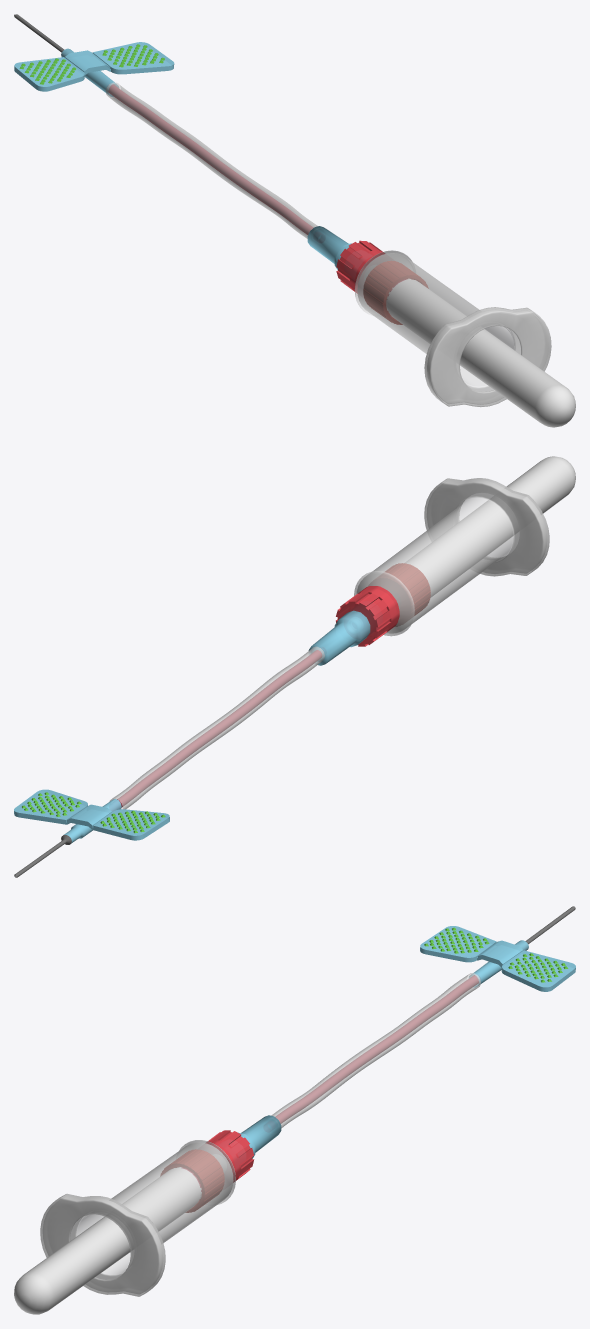
The model's file is Butterfly_Needle.fbx.
3 renders of one model, top to bottom at view 1: azimuth 30°, elevation 25°; view 2: azimuth 150°, elevation 25°; view 3: azimuth 330°, elevation 25°, orthographic.
Parts seen in each view (by area): view 1: Butterfly Needle, Collection Tube; view 2: Butterfly Needle, Collection Tube; view 3: Butterfly Needle, Collection Tube.
Part boxes in pixels (x1,y1,x2,y2): Butterfly Needle: (14,14,551,407); Collection Tube: (363,261,575,427); Butterfly Needle: (14,478,549,877); Collection Tube: (369,456,575,626); Butterfly Needle: (40,906,575,1296); Collection Tube: (14,1149,224,1314).
Size of the model in its own units: 3.49 by 2.31 by 24.78.
